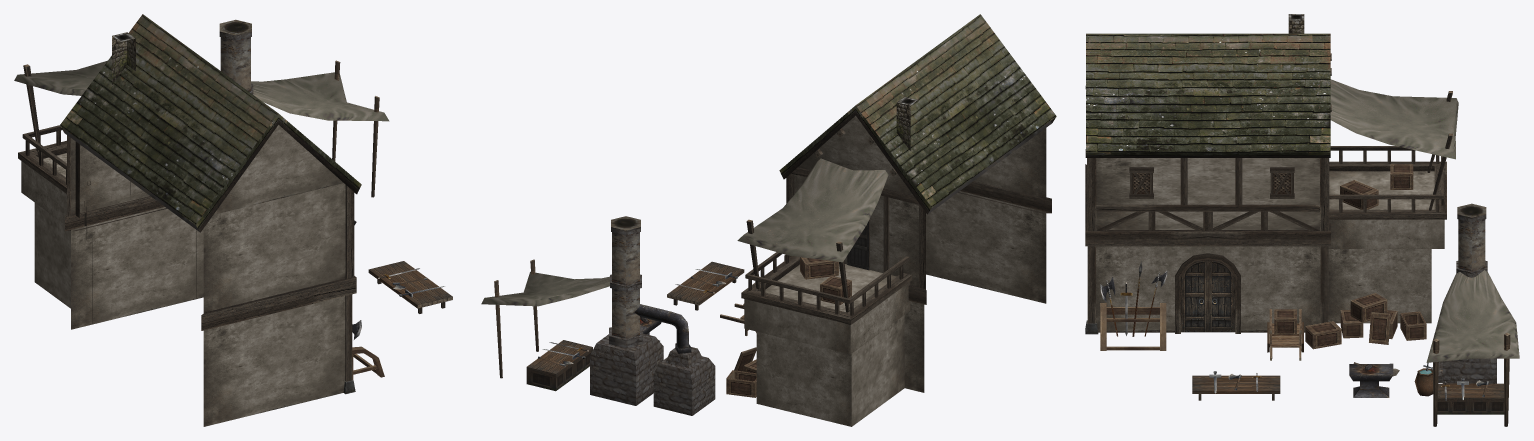
Rendered from SC_yonghengsenlin_09.FBX.
The picture shows the model from 3 angles, left to right: view 1: azimuth 30°, elevation 25°; view 2: azimuth 150°, elevation 25°; view 3: azimuth 270°, elevation 25°; orthographic projection. The views are drawn at different scales.
Parts seen in each view (by area): view 1: SC_yonghengsenlin_09; view 2: SC_yonghengsenlin_09; view 3: SC_yonghengsenlin_09.
Boxes of the visible parts, x1,y1,x2,y2 form: SC_yonghengsenlin_09: [14, 14, 452, 426]; SC_yonghengsenlin_09: [481, 14, 1056, 426]; SC_yonghengsenlin_09: [1085, 14, 1519, 426].
Size of the model in its own units: 1541 by 1134 by 1671.
